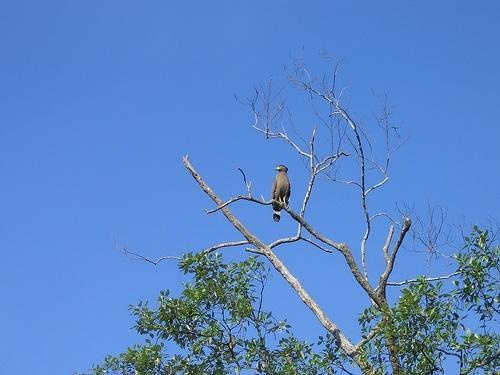bird: (274, 163, 293, 224)
